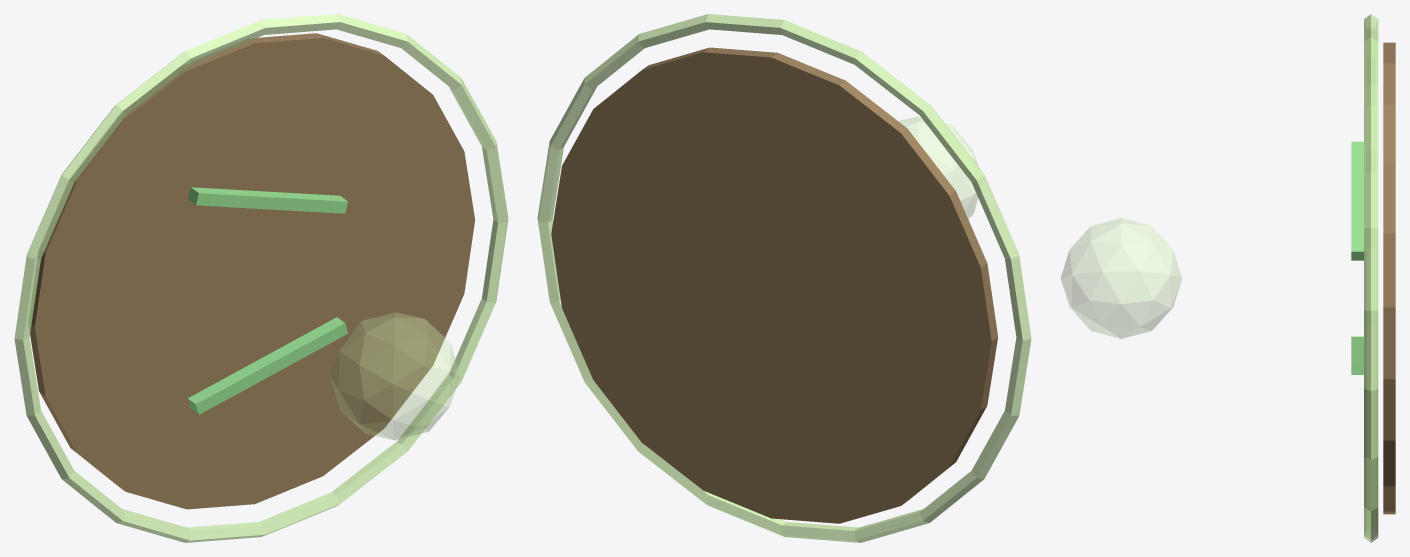
File: 07_weather_terrain_nature_effect.glb
3 renders of one model, left to right at view 1: azimuth 30°, elevation 25°; view 2: azimuth 150°, elevation 25°; view 3: azimuth 270°, elevation 25°, orthographic. The views are drawn at different scales.
Visible parts, largest first — view 1: terrain_patch, weather_boundary, weather_orb, terrain_marker_a, terrain_marker_b; view 2: terrain_patch, weather_boundary, weather_orb; view 3: weather_orb, weather_boundary, terrain_patch, terrain_marker_b, terrain_marker_a.
Part boxes in pixels (bbox=[...]): terrain_patch: bbox=[29, 33, 474, 509]; weather_boundary: bbox=[14, 14, 508, 542]; weather_orb: bbox=[330, 312, 459, 439]; terrain_marker_a: bbox=[188, 317, 347, 414]; terrain_marker_b: bbox=[188, 187, 347, 213]; terrain_patch: bbox=[551, 47, 997, 523]; weather_boundary: bbox=[537, 14, 1031, 542]; weather_orb: bbox=[898, 117, 978, 218]; weather_orb: bbox=[1060, 218, 1181, 338]; weather_boundary: bbox=[1364, 14, 1378, 542]; terrain_patch: bbox=[1383, 42, 1395, 514]; terrain_marker_b: bbox=[1351, 141, 1365, 260]; terrain_marker_a: bbox=[1351, 336, 1365, 374].
Bounding box in the file's own units: 1.75 × 1.75 × 1.1.
